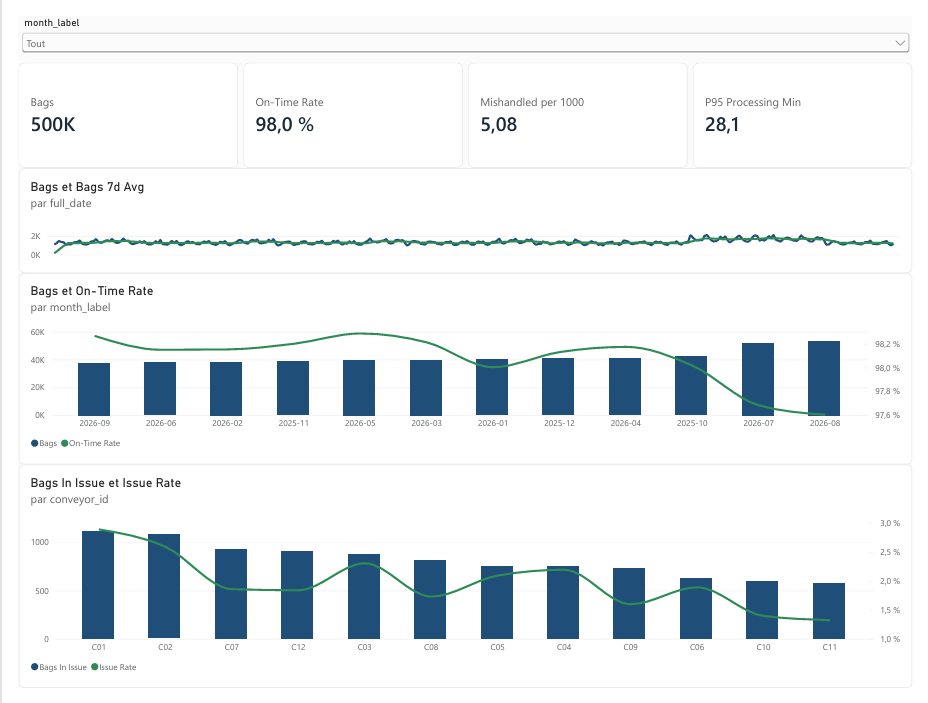

The dashboard page shown, as its layout file describes it:
{"tool":"powerbi","page":{"name":"Post-opérationnel","canvas":[1280,960],"ordinal":1},"visuals":[{"type":"slicer","fields":{"Values":["dim_date.month_label"]},"box":[0,0,1280.9,66],"z":0},{"type":"cardVisual","fields":{"Data":["_Mesures.Bags","_Mesures.On-Time Rate","_Mesures.Mishandled per 1000","_Mesures.P95 Processing Min"]},"box":[0,66,1280,150],"z":1},{"type":"lineChart","fields":{"Category":["dim_date.full_date"],"Y":["_Mesures.Bags","_Mesures.Bags 7d Avg"]},"box":[0,217,1280,150],"z":2},{"type":"lineClusteredColumnComboChart","fields":{"Category":["dim_date.month_label"],"Y":["_Mesures.Bags"],"Y2":["_Mesures.On-Time Rate"]},"box":[0,367.4,1280.4,273.9],"z":3},{"type":"lineClusteredColumnComboChart","fields":{"Category":["dim_conveyor.conveyor_id"],"Y":["_Mesures.Bags In Issue"],"Y2":["_Mesures.Issue Rate"]},"box":[0,641.3,1280.4,319.6],"z":4}]}

Visuals, with their boxes in screenshot pixels (x1, y1, x2, y2), scaled from the page's 1280x960 canvas onto the 928x703 screenshot:
slicer - dim_date.month_label: <region>0, 0, 927, 48</region>
cardVisual - _Mesures.Bags x _Mesures.On-Time Rate: <region>0, 48, 927, 158</region>
lineChart - dim_date.full_date x _Mesures.Bags: <region>0, 159, 927, 269</region>
lineClusteredColumnComboChart - dim_date.month_label x _Mesures.Bags: <region>0, 269, 927, 470</region>
lineClusteredColumnComboChart - dim_conveyor.conveyor_id x _Mesures.Bags In Issue: <region>0, 470, 927, 702</region>
